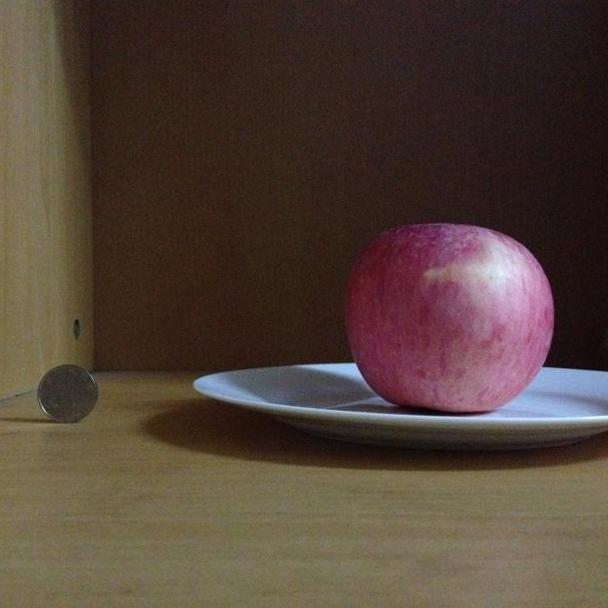apple: (344, 220, 554, 414)
